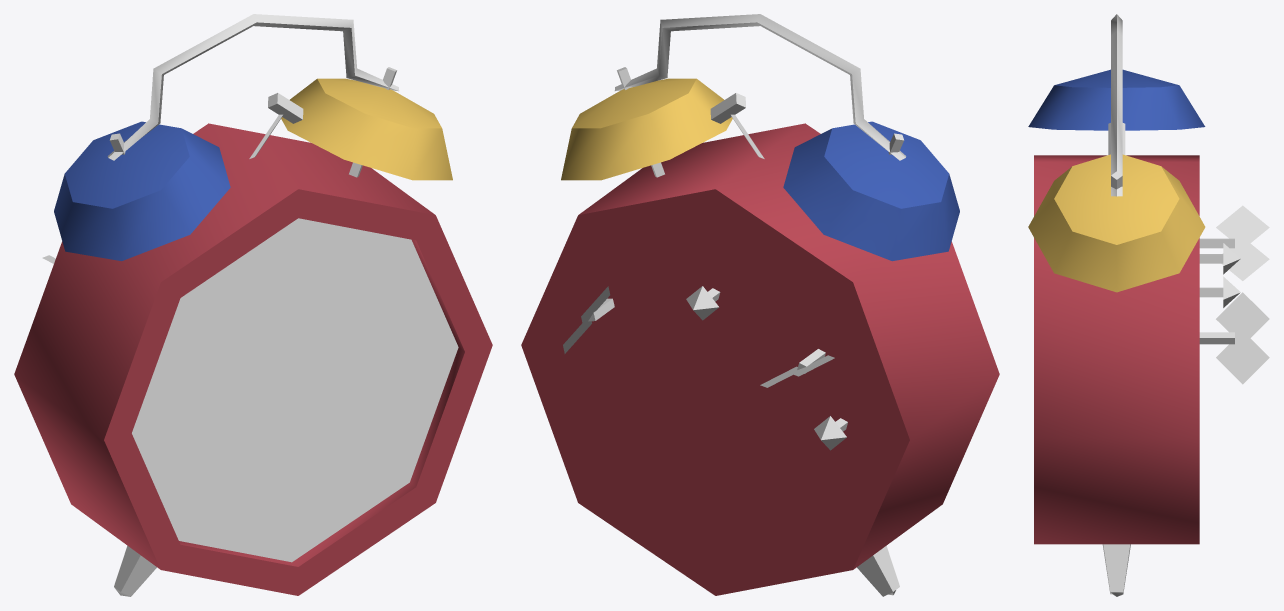
File: alarm_clock_c4d.fbx
The picture shows the model from 3 angles, left to right: view 1: azimuth 30°, elevation 25°; view 2: azimuth 150°, elevation 25°; view 3: azimuth 270°, elevation 25°; orthographic projection. The views are drawn at different scales.
Parts seen in each view (by area): view 1: Face, Body, Bell, Bell_2, Bridge, Leg_Left, Cube; view 2: Body, Bell, Bell_2, Bridge, Leg_Left, Cube, Handle, Pyramid, Pyramid_2; view 3: Body, Bell_2, Bell, Handle, Handle_2, Bridge, Leg_Right, Post_3, Post_4.
Boxes of the visible parts, x1,y1,x2,y2 form: Face: [132, 218, 458, 562]; Body: [14, 123, 492, 595]; Bell: [54, 121, 230, 261]; Bell_2: [281, 78, 452, 180]; Bridge: [107, 14, 399, 160]; Leg_Left: [114, 546, 156, 596]; Cube: [268, 93, 303, 123]; Body: [521, 123, 999, 595]; Bell: [783, 121, 959, 261]; Bell_2: [561, 78, 732, 180]; Bridge: [614, 14, 906, 160]; Leg_Left: [857, 546, 899, 596]; Cube: [710, 93, 745, 123]; Handle: [563, 286, 610, 353]; Pyramid: [814, 416, 846, 450]; Pyramid_2: [686, 286, 718, 320]; Body: [1034, 155, 1199, 544]; Bell_2: [1028, 154, 1205, 292]; Bell: [1028, 69, 1205, 130]; Handle: [1216, 292, 1269, 384]; Handle_2: [1216, 205, 1269, 280]; Bridge: [1111, 14, 1122, 196]; Leg_Right: [1102, 544, 1130, 596]; Post_3: [1199, 332, 1234, 344]; Post_4: [1199, 238, 1234, 248].
Bounding box in the file's own units: 93.47 × 126 × 54.58.
